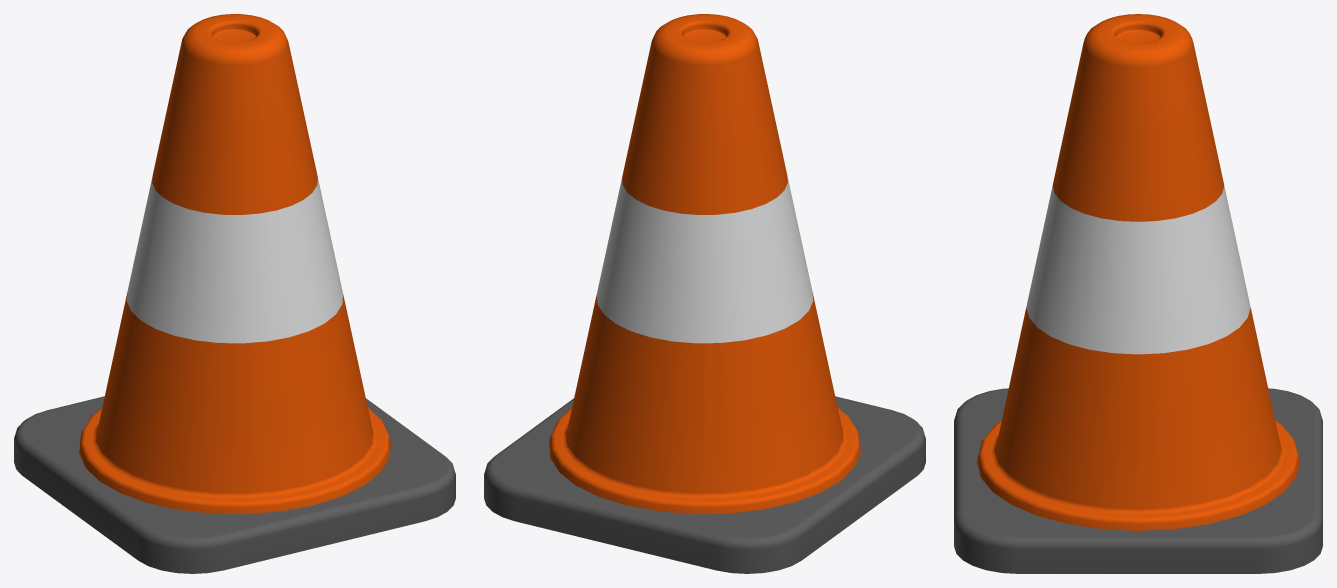
3 renders of one model, left to right at view 1: azimuth 30°, elevation 25°; view 2: azimuth 150°, elevation 25°; view 3: azimuth 270°, elevation 25°, orthographic. The views are drawn at different scales.
Visible parts, largest first — view 1: SM_Cone_1; view 2: SM_Cone_1; view 3: SM_Cone_1.
Boxes of the visible parts, x1,y1,x2,y2 form: SM_Cone_1: (14,14,455,573); SM_Cone_1: (484,14,925,573); SM_Cone_1: (954,14,1322,573).
Size of the model in its own units: 50 by 69.42 by 50.
